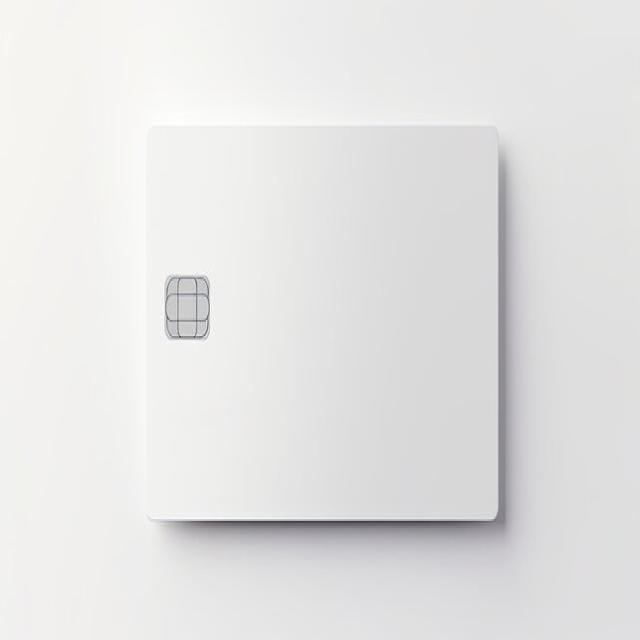payment_card: (144, 123, 501, 523)
